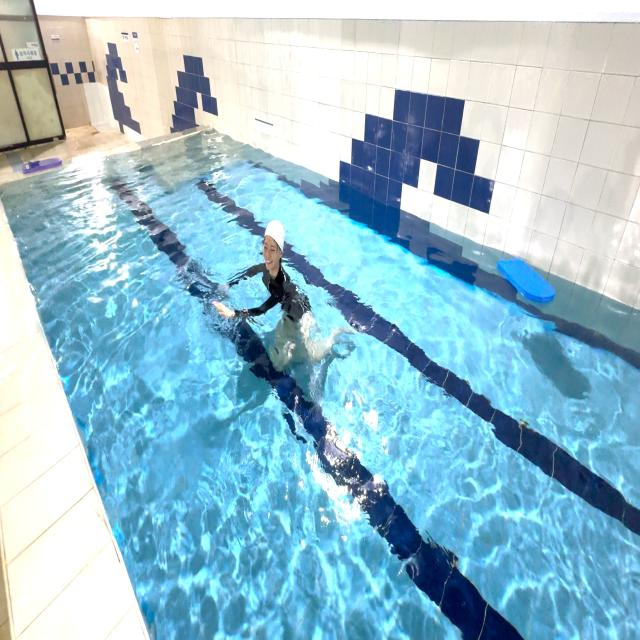Swimming: (203, 200, 365, 422)
